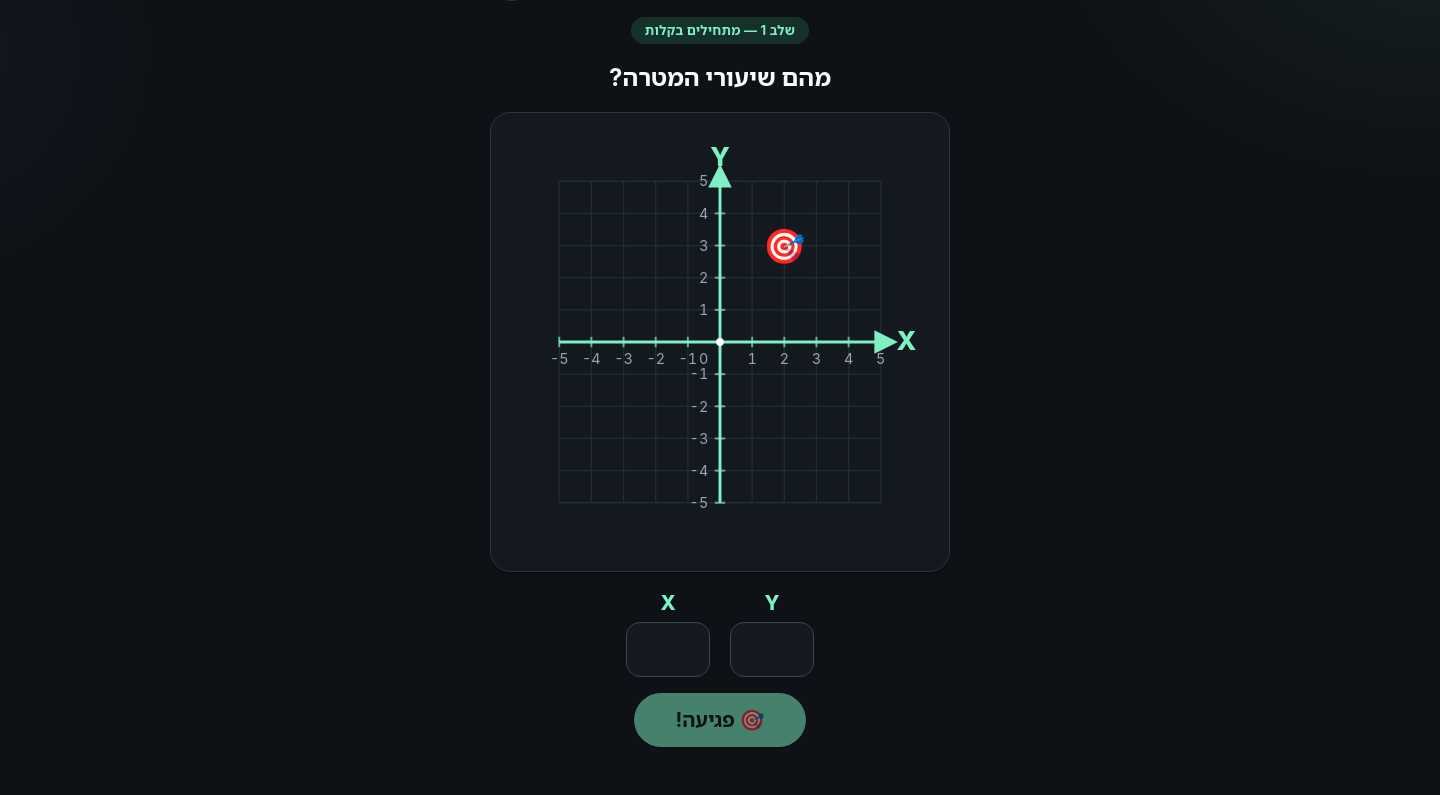
Scenario: resilience — activity tracking never surfaces to the player › keeps gameplay working when the tracker itself rejects
(page scrolled)
Type "2" into the field labelled "X" at (668, 650), box x1=626 y1=622 x2=710 y2=677
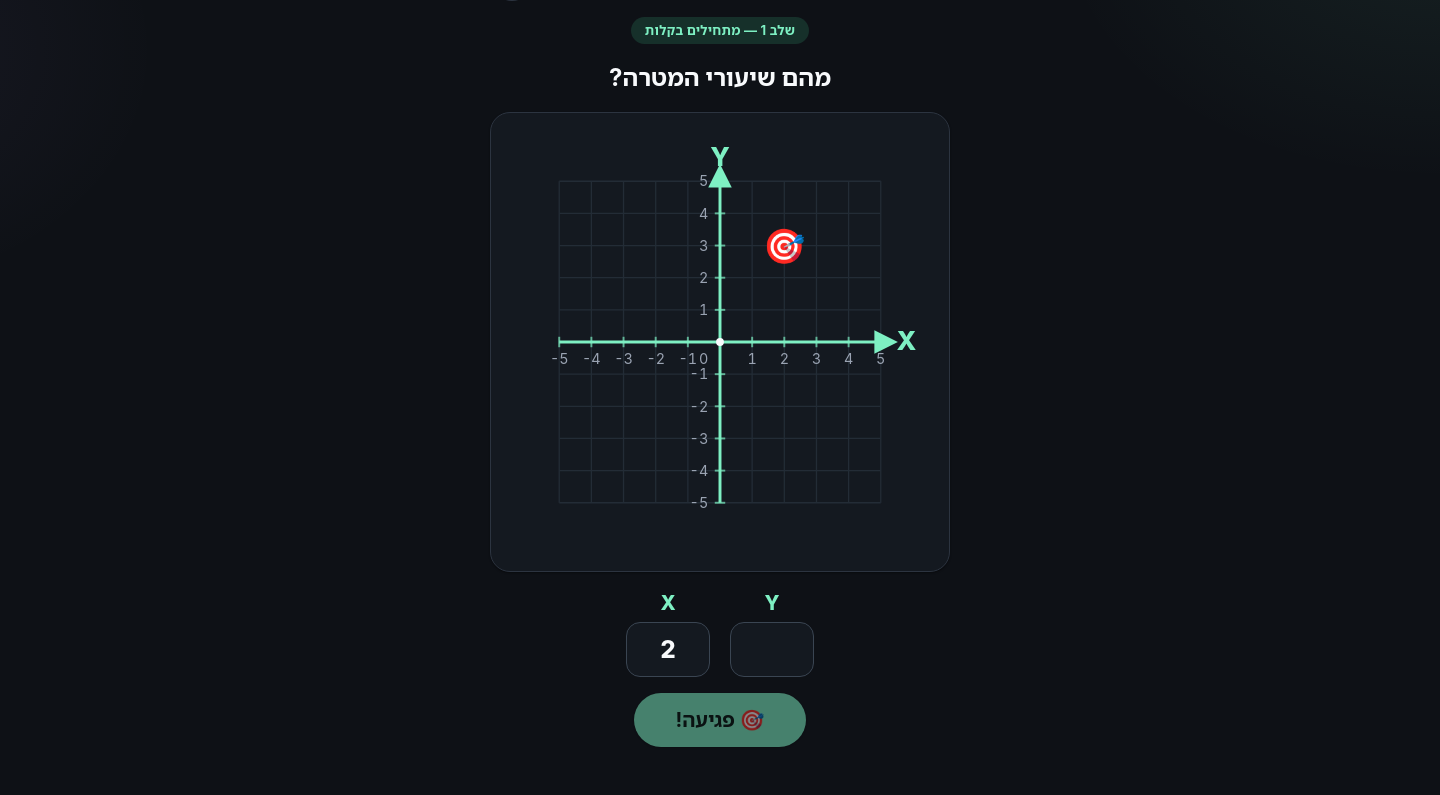
Type "3" into the field labelled "Y" at (772, 650), box x1=730 y1=622 x2=814 y2=677
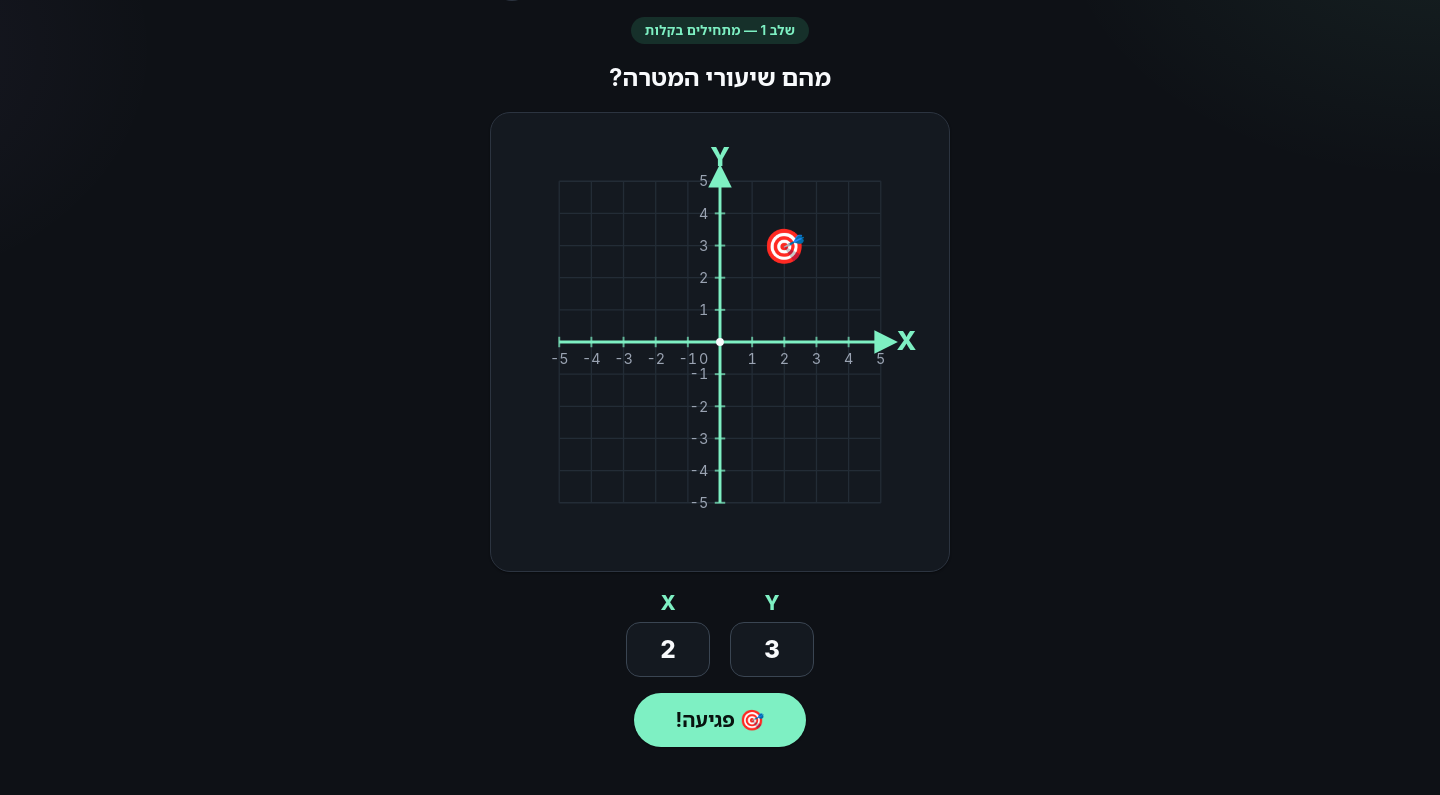
Click the button "🎯 פגיעה!" at (720, 720), box x1=634 y1=693 x2=806 y2=747
Wait 1100 ms
(page scrolled)
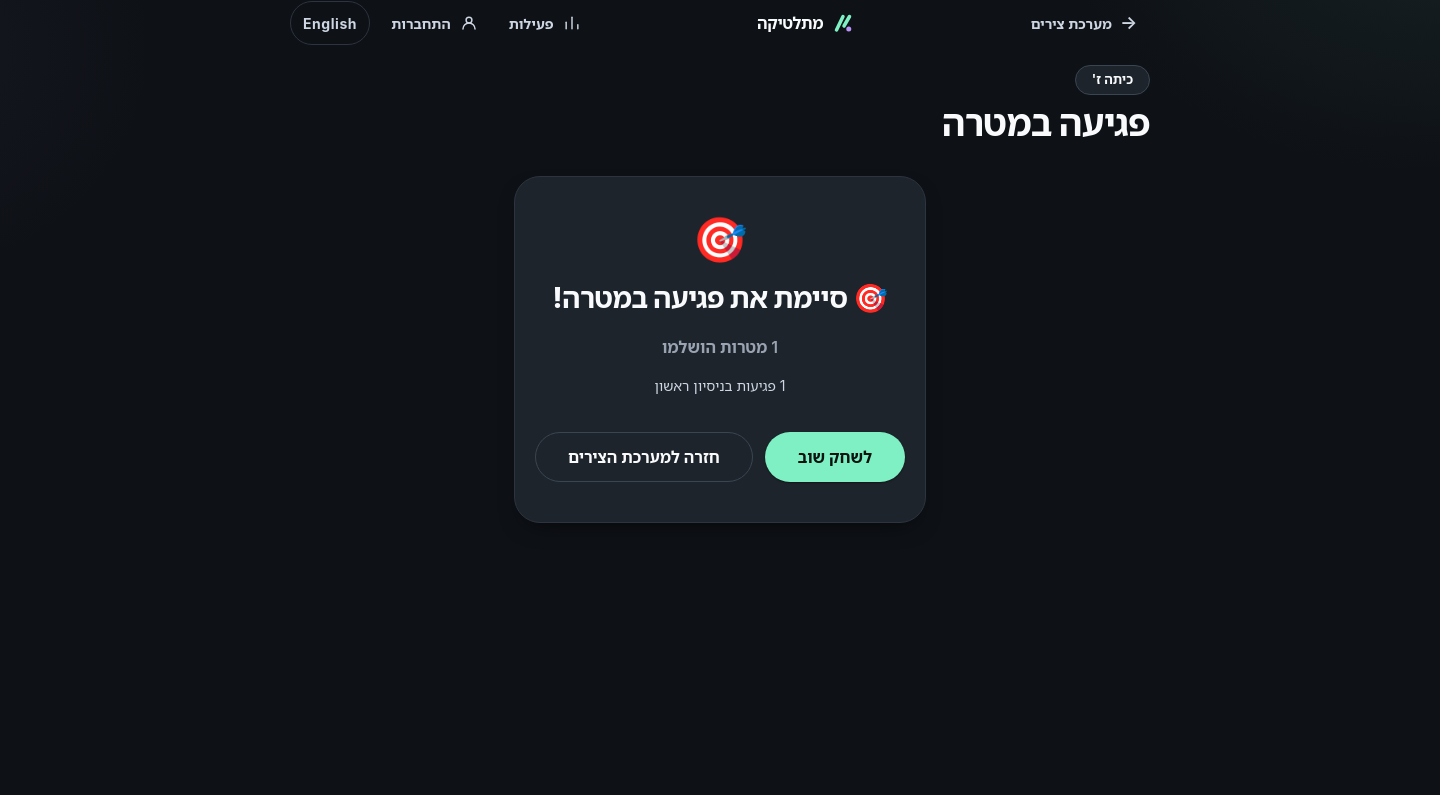
Now the heading "🎯 סיימת את פגיעה במטרה!" is shown, box x1=553 y1=277 x2=887 y2=319
